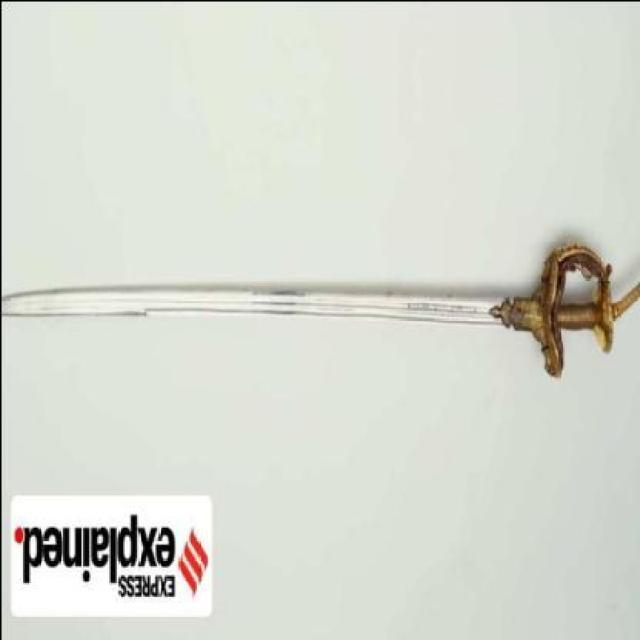weapon: (0, 238, 638, 376)
